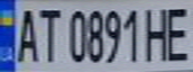0: (63, 4, 87, 63)
1: (121, 4, 145, 63)
8: (84, 4, 106, 64)
9: (103, 4, 127, 63)
A: (9, 3, 42, 64)
E: (160, 2, 193, 62)
H: (142, 2, 175, 62)
T: (33, 3, 63, 63)
